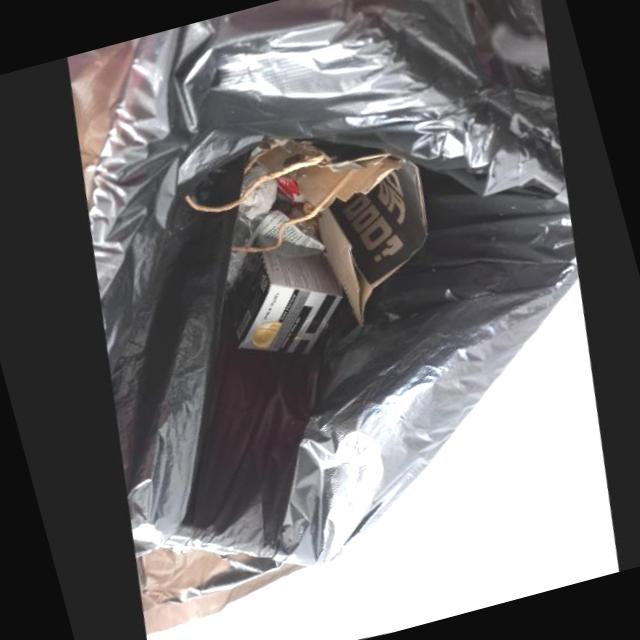carton: (231, 242, 337, 356)
giay: (245, 139, 422, 326)
